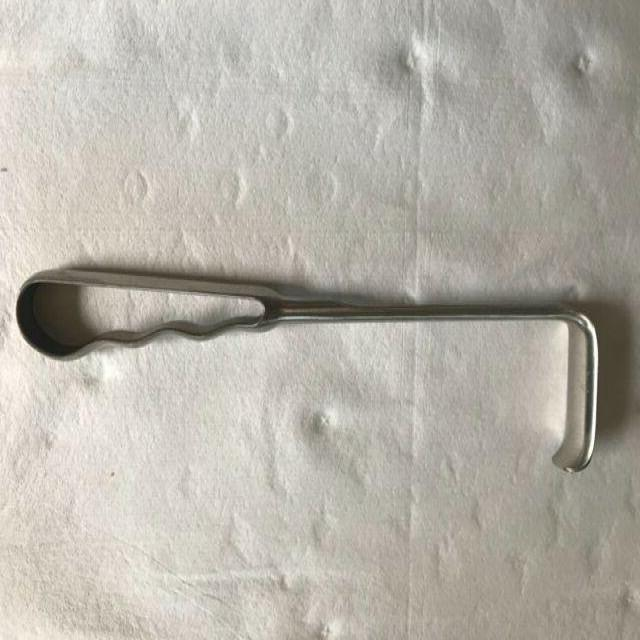Richardson: (14, 254, 607, 486)
